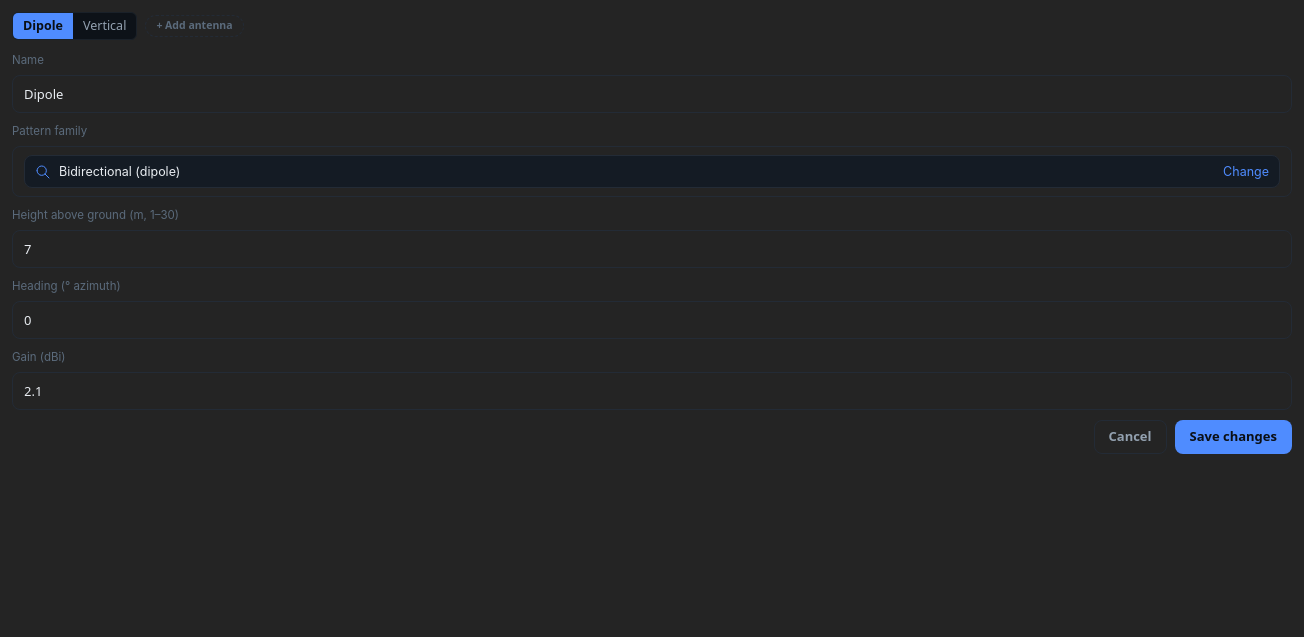
AntennaList › switching the active antenna while the form is dirty › keeps the in-progress edit when the confirm is dismissed
Step 1. Replace the text in the number field named "Height above ground (m)" with "12" → (652,249), box [24,239,1280,259]
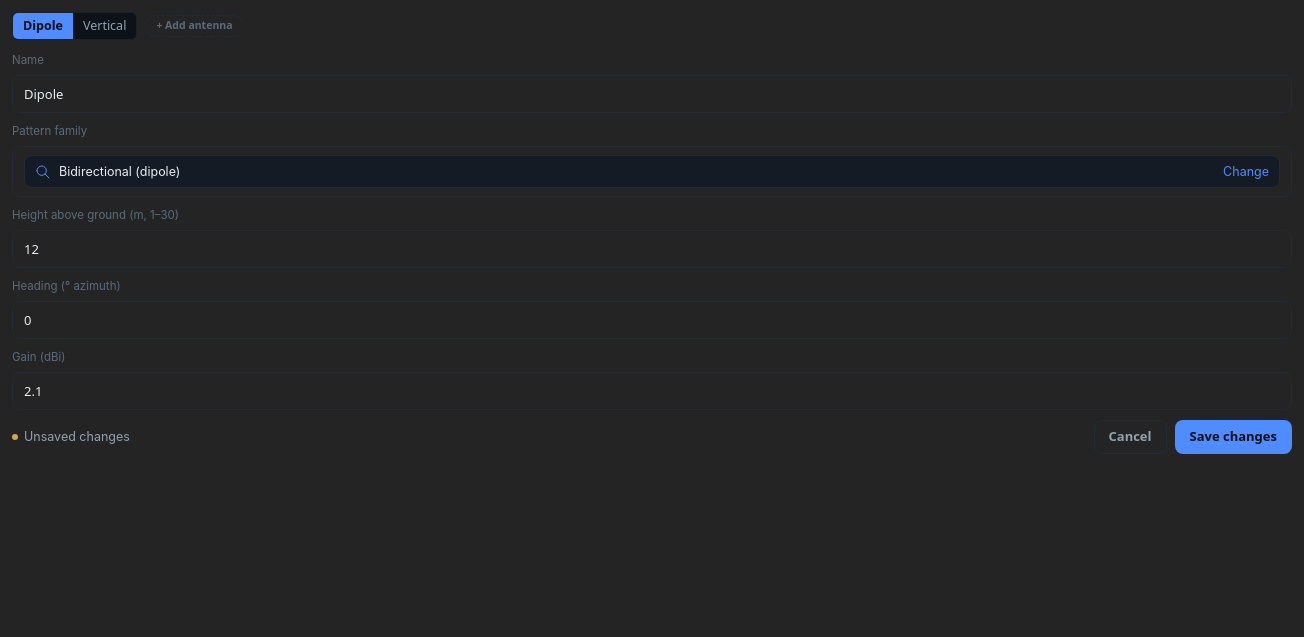
Step 2. Click the button "Vertical" → (105,26), box [73,13,136,39]
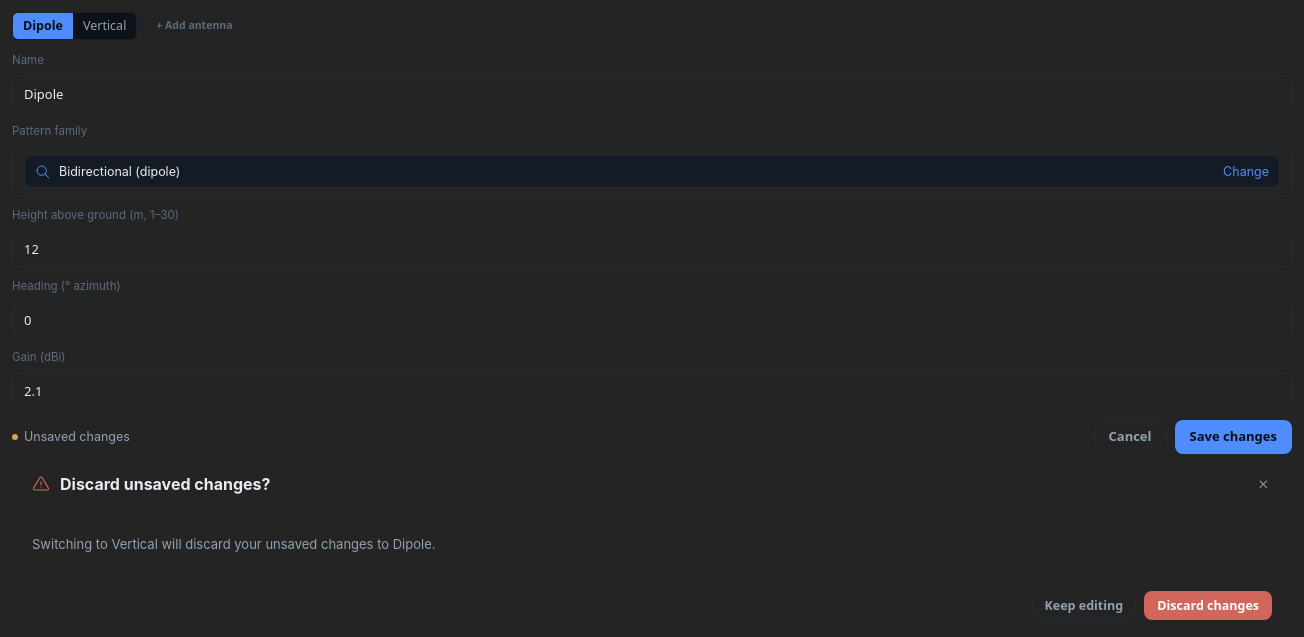
Step 3. Click the button "Keep editing" → (1084,605), box [1032,591,1136,620]
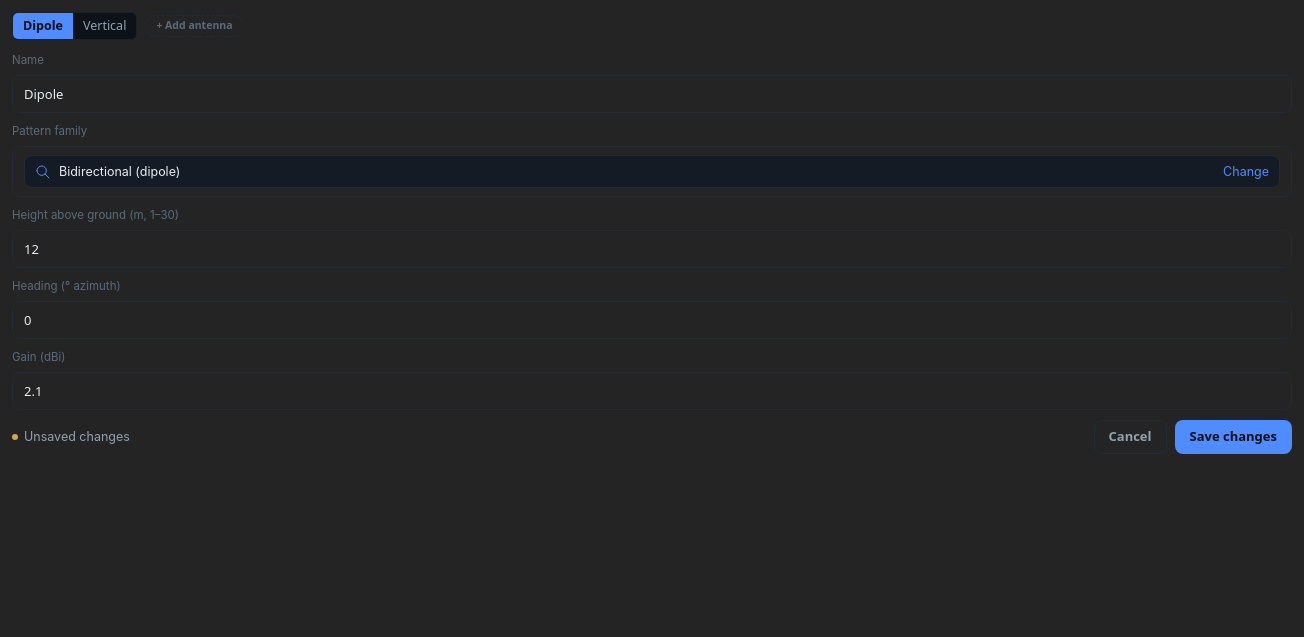
Check: the field with placeholder "e.g. 20m yagi" holds "Dipole", box [24,84,1280,104]
Check: the text "Discard unsaved changes" is gone
